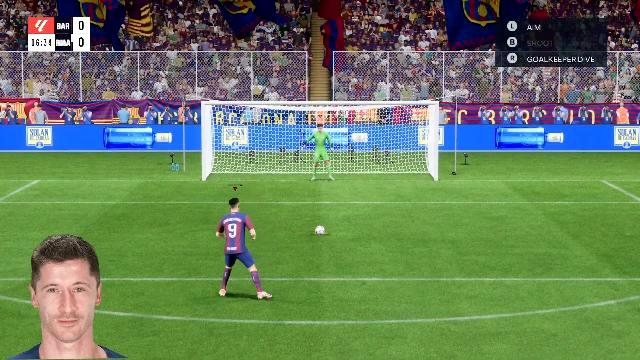bottom-left: (206, 148, 280, 180)
bottom-right: (357, 148, 433, 180)
center-down: (281, 148, 359, 180)
center-up: (282, 105, 354, 146)
football: (313, 228, 327, 236)
goalkeeper: (302, 125, 346, 183)
player: (213, 197, 271, 299)
top-left: (207, 104, 280, 146)
top-right: (356, 105, 434, 146)
